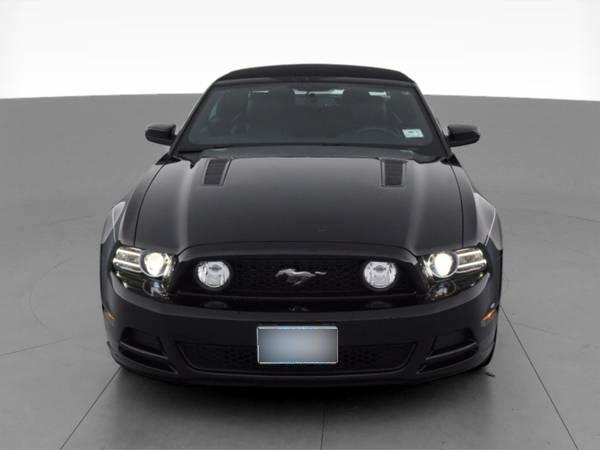Front_Bumper: (99, 244, 502, 388)
Front_Windshield: (168, 79, 446, 160)
Grille: (170, 243, 431, 313)
Hood: (101, 144, 504, 258)
Left_Headlight: (422, 243, 495, 298)
Left_Mirror: (447, 124, 480, 146)
Right_Headlight: (112, 240, 177, 300)
Right_Mirror: (142, 121, 179, 147)
Roof: (211, 63, 415, 83)
